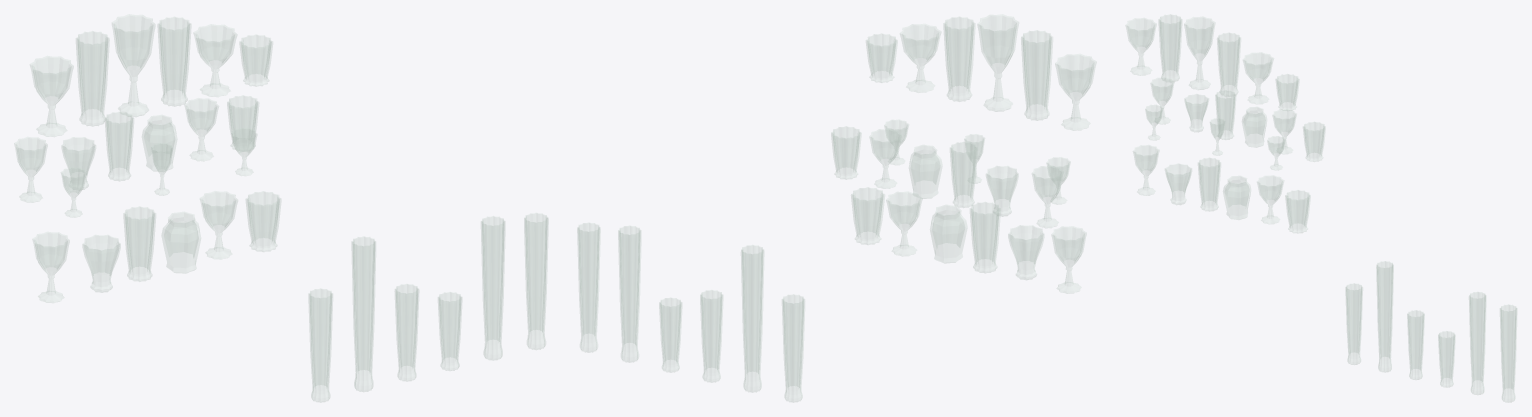
File: crystal.glb
3 views of the same model, side by side, from view 1: azimuth 30°, elevation 25°; view 2: azimuth 150°, elevation 25°; view 3: azimuth 330°, elevation 25° (orthographic). The views are drawn at different scales.
Parts seen in each view (by area): view 1: FloristCutGlass; view 2: FloristCutGlass; view 3: FloristCutGlass.
Boxes of the visible parts, x1,y1,x2,y2 form: FloristCutGlass: [14, 14, 548, 402]; FloristCutGlass: [577, 14, 1096, 402]; FloristCutGlass: [1125, 14, 1517, 402].
Size of the model in its own units: 2.61 by 2.06 by 0.3847.
Materials: 1 (1 with a texture image).
